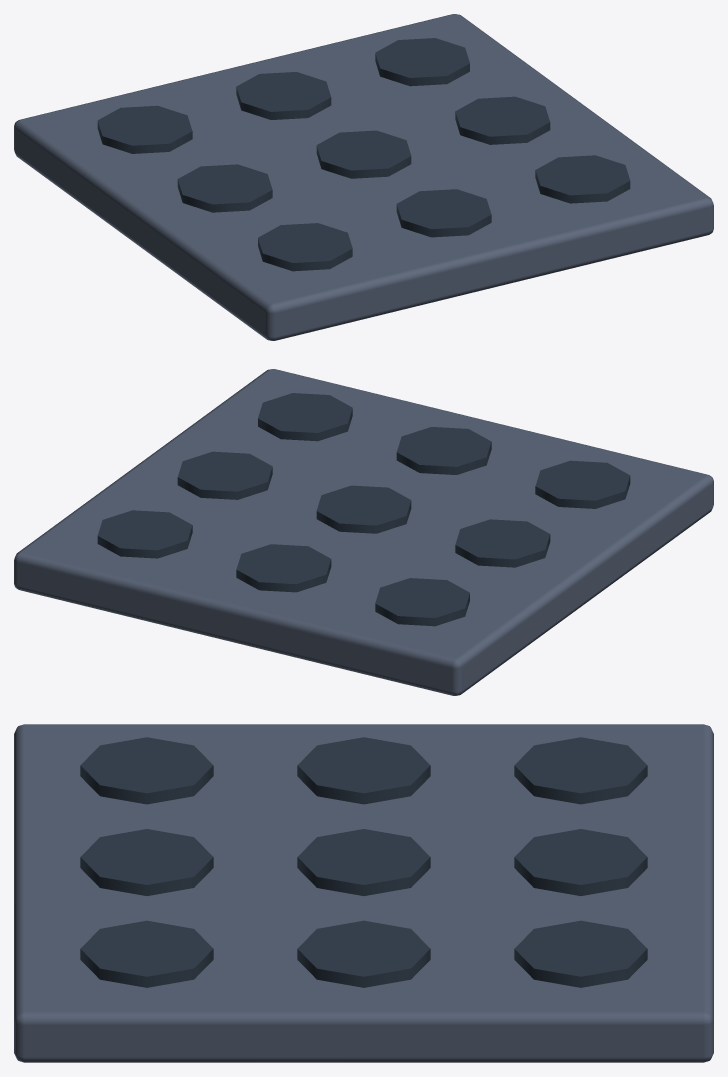
Rendered from spike-trap.glb.
The picture shows the model from 3 angles, top to bottom: view 1: azimuth 30°, elevation 25°; view 2: azimuth 150°, elevation 25°; view 3: azimuth 270°, elevation 25°; orthographic projection. The views are drawn at different scales.
Visible parts, largest first — view 1: stone-base, socket--0.62--0.62, socket-0.62-0, socket-0.62-0.62, socket--0.62-0, socket-0-0.62, socket-0-0, socket-0--0.62, socket--0.62-0.62, socket-0.62--0.62; view 2: stone-base, socket--0.62-0.62, socket-0.62--0.62, socket-0.62-0, socket--0.62-0, socket-0--0.62, socket-0-0, socket-0-0.62, socket--0.62--0.62, socket-0.62-0.62; view 3: stone-base, socket-0--0.62, socket-0-0, socket-0-0.62, socket-0.62--0.62, socket-0.62-0, socket-0.62-0.62, socket--0.62--0.62, socket--0.62-0, socket--0.62-0.62.
Boxes of the visible parts, left/top/right/bottom form: stone-base: left=14, top=14, right=713, bottom=340; socket--0.62--0.62: left=97, top=105, right=192, bottom=153; socket-0.62-0: left=455, top=96, right=550, bottom=144; socket-0.62-0.62: left=535, top=155, right=630, bottom=203; socket--0.62-0: left=177, top=164, right=272, bottom=212; socket-0-0.62: left=396, top=189, right=491, bottom=237; socket-0-0: left=316, top=130, right=411, bottom=178; socket-0--0.62: left=236, top=72, right=331, bottom=119; socket--0.62-0.62: left=258, top=223, right=352, bottom=271; socket-0.62--0.62: left=375, top=38, right=469, bottom=86; stone-base: left=14, top=369, right=713, bottom=695; socket--0.62-0.62: left=535, top=460, right=630, bottom=508; socket-0.62--0.62: left=97, top=510, right=192, bottom=558; socket-0.62-0: left=177, top=451, right=272, bottom=499; socket--0.62-0: left=455, top=519, right=550, bottom=567; socket-0--0.62: left=236, top=544, right=331, bottom=592; socket-0-0: left=316, top=485, right=411, bottom=533; socket-0-0.62: left=396, top=427, right=491, bottom=474; socket--0.62--0.62: left=375, top=578, right=469, bottom=626; socket-0.62-0.62: left=258, top=393, right=352, bottom=441; stone-base: left=14, top=724, right=713, bottom=1062; socket-0--0.62: left=514, top=829, right=647, bottom=895; socket-0-0: left=297, top=829, right=430, bottom=895; socket-0-0.62: left=80, top=829, right=213, bottom=895; socket-0.62--0.62: left=514, top=920, right=647, bottom=987; socket-0.62-0: left=297, top=920, right=430, bottom=987; socket-0.62-0.62: left=80, top=920, right=213, bottom=987; socket--0.62--0.62: left=514, top=737, right=647, bottom=804; socket--0.62-0: left=297, top=737, right=430, bottom=804; socket--0.62-0.62: left=80, top=737, right=213, bottom=804.
Size of the model in its own units: 2 by 0.195 by 2.
